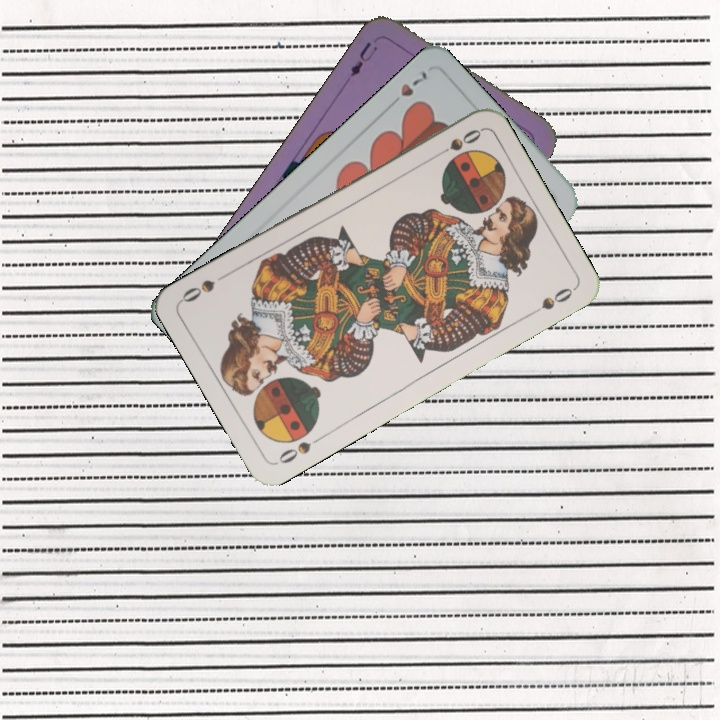EU: (346, 37, 381, 80)
H7: (384, 66, 432, 111)
SO: (430, 125, 484, 161), (273, 431, 326, 467)
